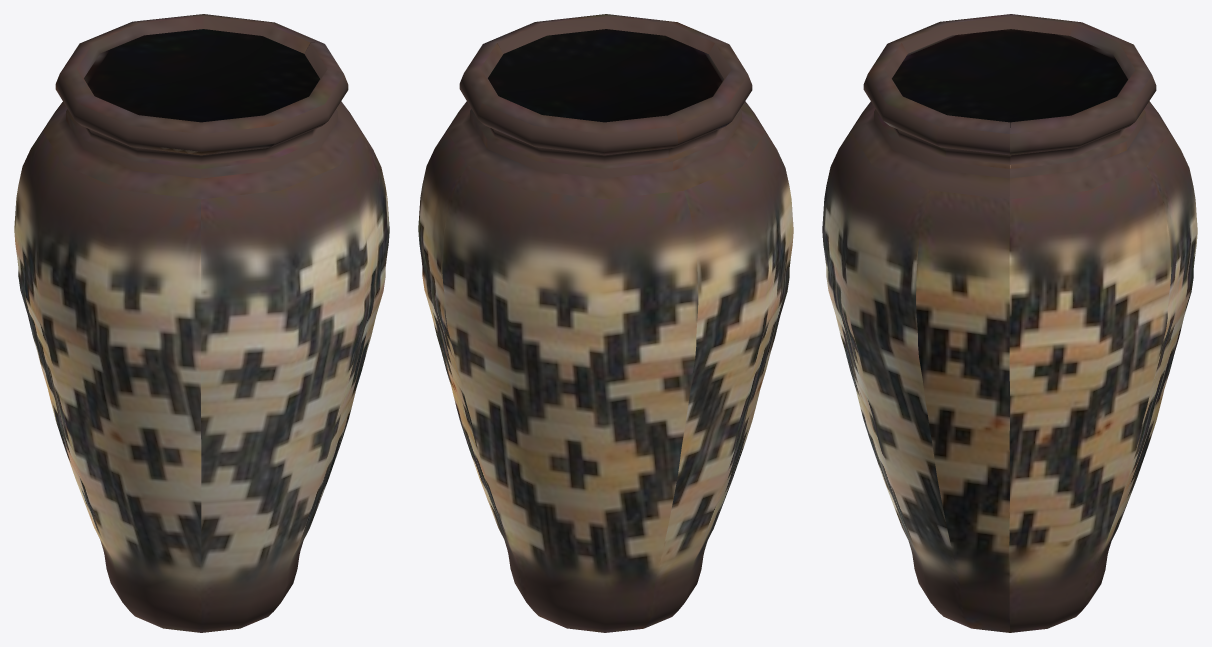
File: vaso.fbx
3 views of the same model, side by side, from view 1: azimuth 30°, elevation 25°; view 2: azimuth 150°, elevation 25°; view 3: azimuth 270°, elevation 25° (orthographic).
Visible parts, largest first — view 1: Circle.001; view 2: Circle.001; view 3: Circle.001.
Boxes of the visible parts, left/top/right/bottom form: Circle.001: left=14, top=14, right=389, bottom=632; Circle.001: left=418, top=14, right=793, bottom=632; Circle.001: left=822, top=14, right=1197, bottom=632.
Bounding box in the file's own units: 277 × 432 × 277.
